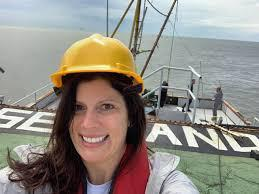helmet: (50, 31, 149, 88)
